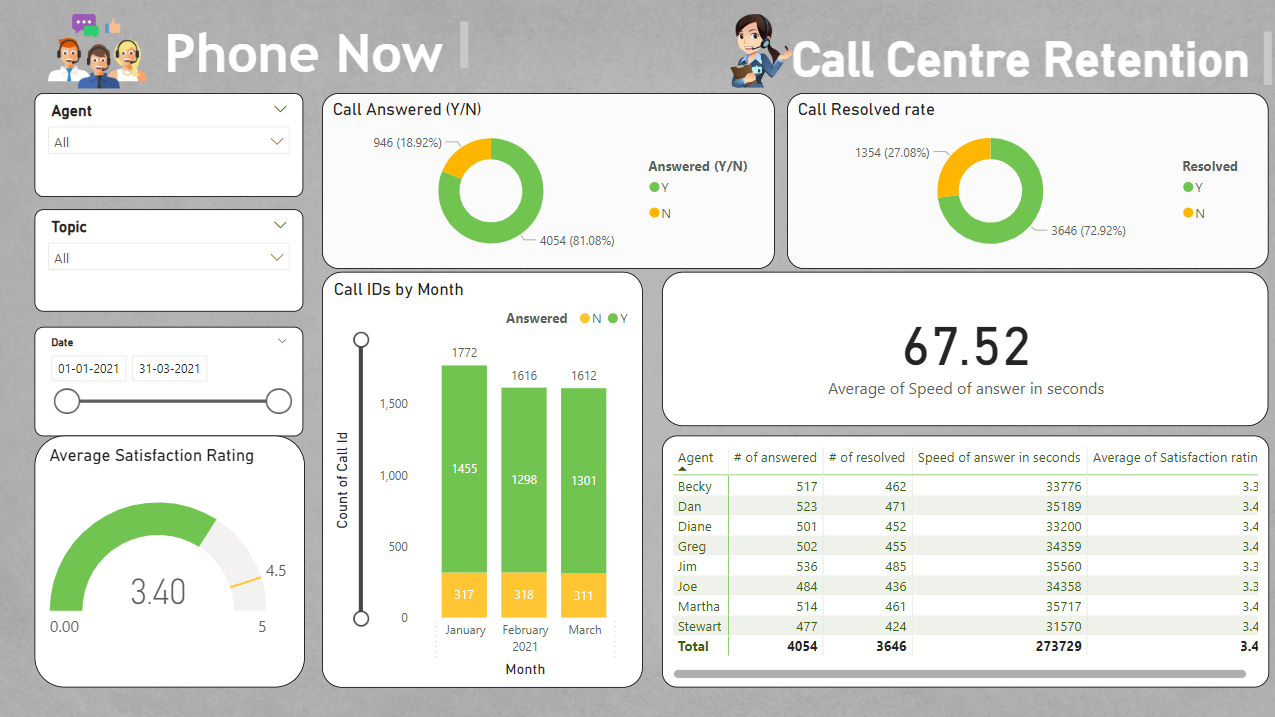

The dashboard page shown, as its layout file describes it:
{"tool":"powerbi","page":{"name":"Page 1","canvas":[1280,720],"ordinal":0},"visuals":[{"type":"slicer","fields":{"Values":["Call Center.Agent"]},"box":[37.4,95.3,269,103.8],"z":0},{"type":"slicer","fields":{"Values":["Call Center.Topic"]},"box":[37.4,211.1,269,102.5],"z":1000},{"type":"slicer","fields":{"Values":["Call Center.Date"]},"box":[37.4,328.2,269,109.8],"z":2000},{"type":"gauge","title":"Average Satisfaction Rating","fields":{"Y":["Avg(Call Center.Satisfaction rating)"],"MaxValue":["Max(Call Center.Satisfaction rating)1"],"TargetValue":["Call Center.Target Value Satisfaction"]},"box":[37.4,437.9,270.2,252.1],"z":3000},{"type":"donutChart","title":"Call Answered (Y/N)","fields":{"Y":["CountNonNull(Call Center.Answered (Y/N))"],"Category":["Call Center.Answered (Y/N)"]},"box":[324.5,95.3,452.4,176.1],"z":4000},{"type":"donutChart","title":"Call Resolved rate","fields":{"Category":["Call Center.Resolved"],"Y":["CountNonNull(Call Center.Resolved)"]},"box":[790.2,95.3,481.4,176.1],"z":5000},{"type":"card","fields":{"Values":["Avg(Call Center.Speed of answer in seconds)"]},"box":[665.2,273.9,606.5,154.1],"z":6000},{"type":"columnChart","title":"Call IDs by Month","fields":{"Series":["Call Center.Answered (Y/N)"],"Y":["CountNonNull(Call Center.Call Id)"],"Category":["Call Center.Date.Variation.Date Hierarchy.Year","Call Center.Date.Variation.Date Hierarchy.Month"]},"box":[324.5,273.9,320.9,416.2],"z":7000},{"type":"pivotTable","fields":{"Rows":["Call Center.Agent"],"Values":["Call Center.# of answered","Call Center.# of resolved","Sum(Call Center.Speed of answer in seconds)","Avg(Call Center.Satisfaction rating)"]},"box":[664.7,437.9,606.8,252.1],"z":8000},{"type":"textbox","box":[162.9,19.3,313.7,63.9],"z":8001},{"type":"image","box":[37.4,10.9,125.5,84.5],"z":8002},{"type":"image","box":[688.5,11,151.6,83.2],"z":8003},{"type":"textbox","box":[790.2,29,489.8,63.9],"z":8004}]}

Visuals, with their boxes in screenshot pixels (x1, y1, x2, y2), scaled from the page's 1280x720 canvas onto the 1275x717 screenshot:
slicer - Call Center.Agent: [left=37, top=95, right=305, bottom=198]
slicer - Call Center.Topic: [left=37, top=210, right=305, bottom=312]
slicer - Call Center.Date: [left=37, top=327, right=305, bottom=436]
"Average Satisfaction Rating" gauge: [left=37, top=436, right=306, bottom=687]
"Call Answered (Y/N)" donutChart: [left=323, top=95, right=774, bottom=270]
"Call Resolved rate" donutChart: [left=787, top=95, right=1267, bottom=270]
card - Avg(Call Center.Speed of answer in seconds): [left=663, top=273, right=1267, bottom=426]
"Call IDs by Month" columnChart: [left=323, top=273, right=643, bottom=687]
pivotTable - Call Center.Agent x Call Center.# of answered: [left=662, top=436, right=1267, bottom=687]
textbox: [left=162, top=19, right=475, bottom=83]
image: [left=37, top=11, right=162, bottom=95]
image: [left=686, top=11, right=837, bottom=94]
textbox: [left=787, top=29, right=1274, bottom=93]
